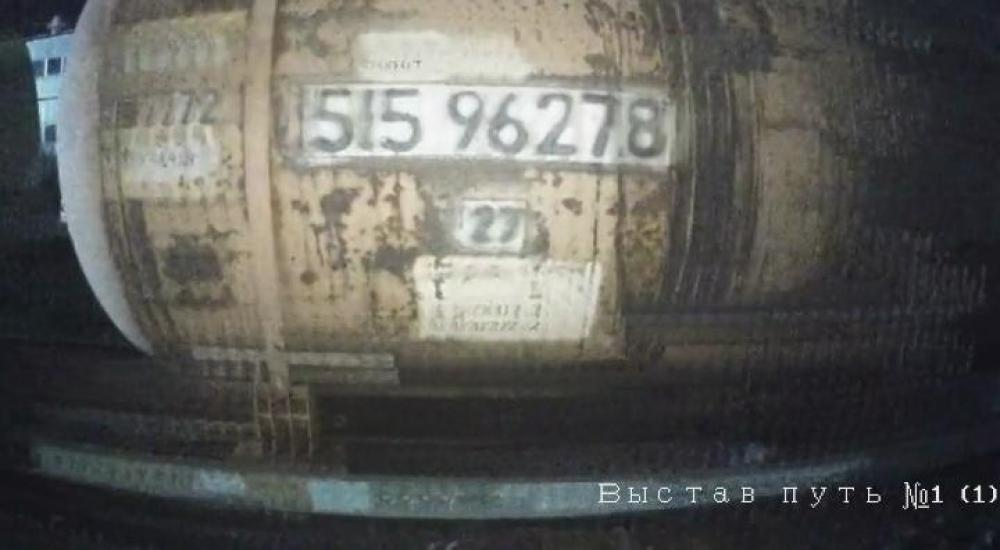Wagon-number: (302, 82, 674, 166)
